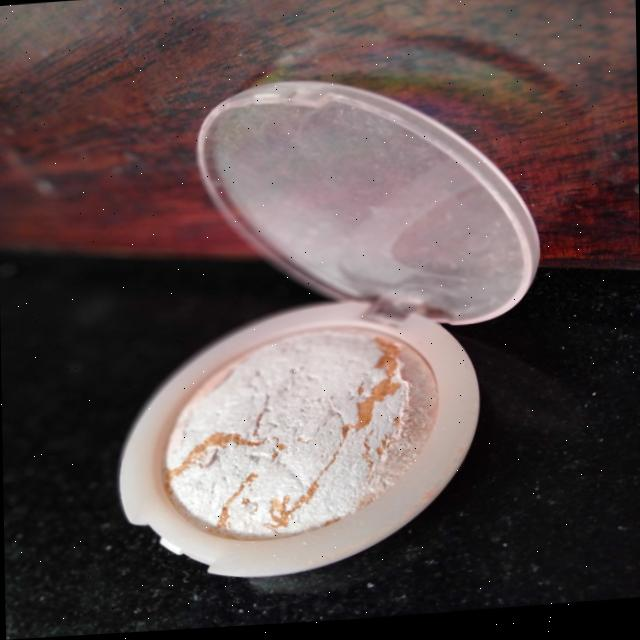highlighter: (128, 290, 470, 592)
